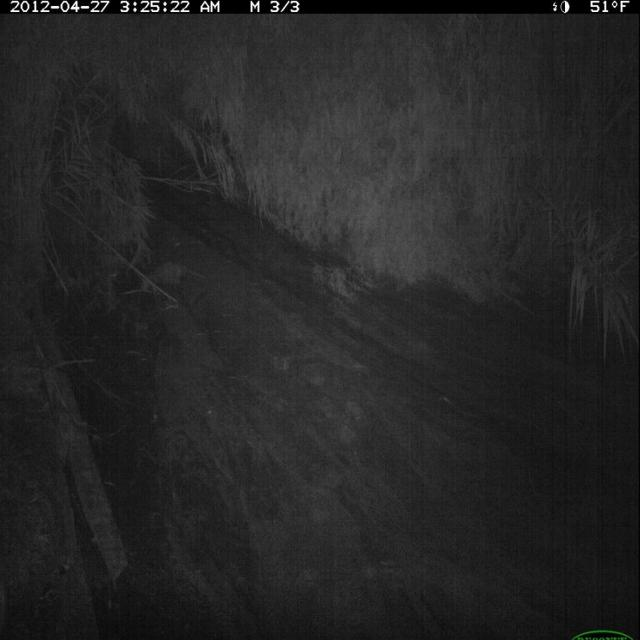opossum: (137, 256, 211, 299)
